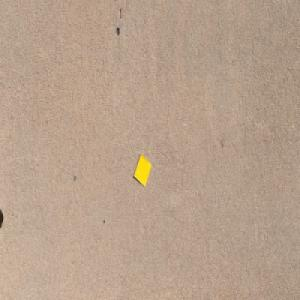PlasticPart: (133, 152, 151, 187)
